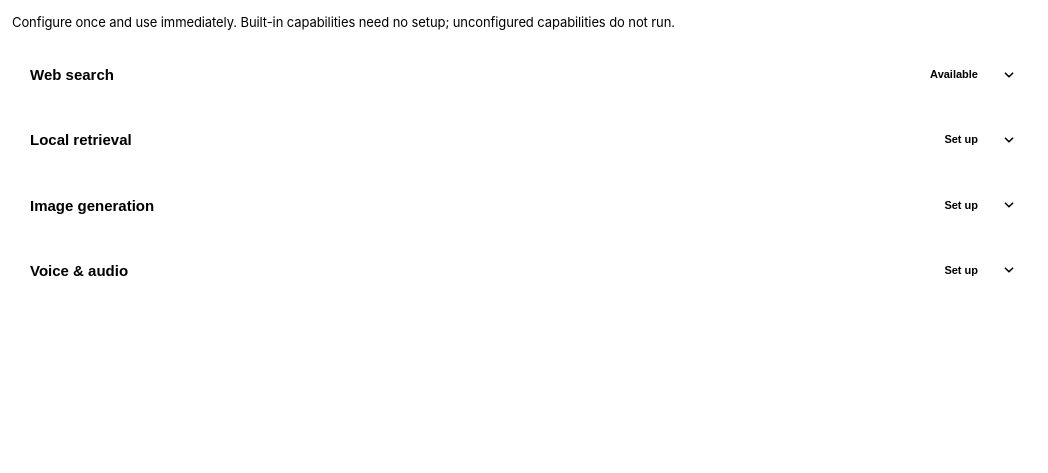
Test case: SetupCapabilitiesPanel › makes managed custom memory expandable so it can be restored
Click the button with id "capability-memory_embedding-trigger": (81, 140) [12,113,1036,166]
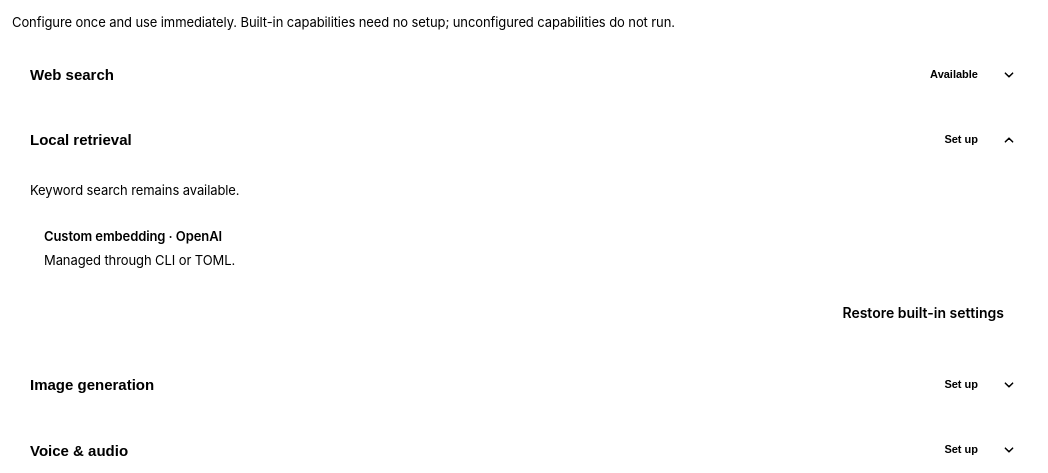
Expected: the text "Custom embedding · OpenAI" is shown, [44,226,222,246]
Expected: the text "Restore built-in settings" is shown, [828,294,1018,330]
